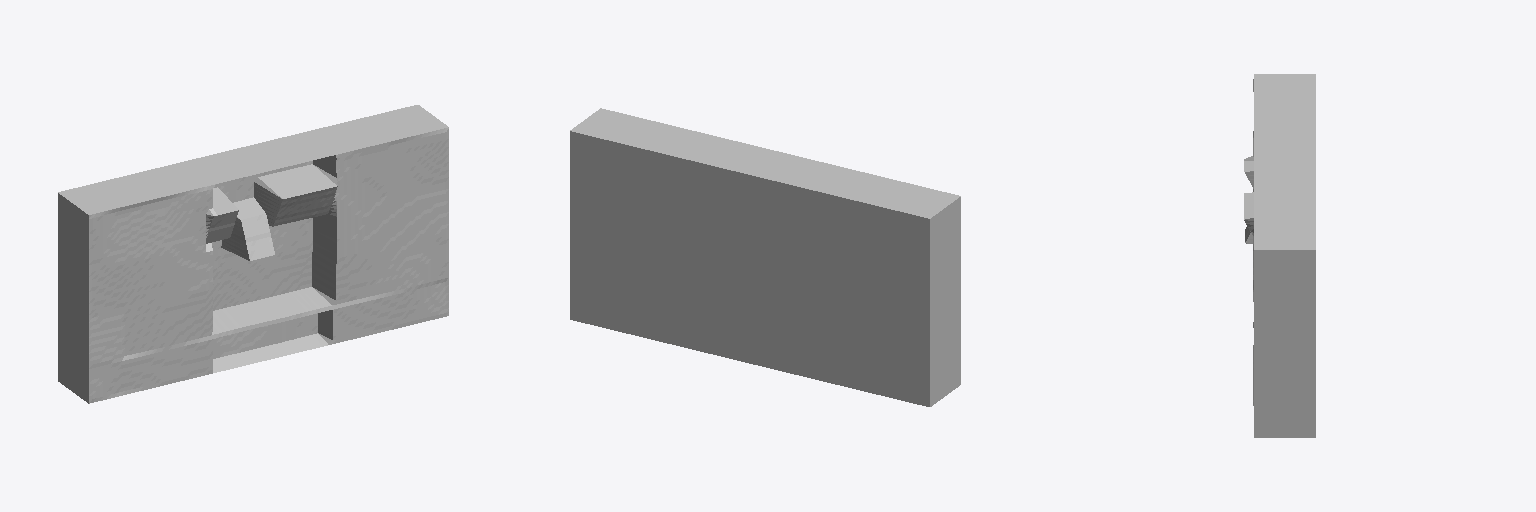
Rendered from rectangular_prism_bumps_8_1.obj.
3 views of the same model, side by side, from view 1: azimuth 30°, elevation 25°; view 2: azimuth 150°, elevation 25°; view 3: azimuth 270°, elevation 25° (orthographic).
Bounding box in the file's own units: 10 × 5 × 1.75.